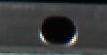holes: (39, 15, 79, 49)
